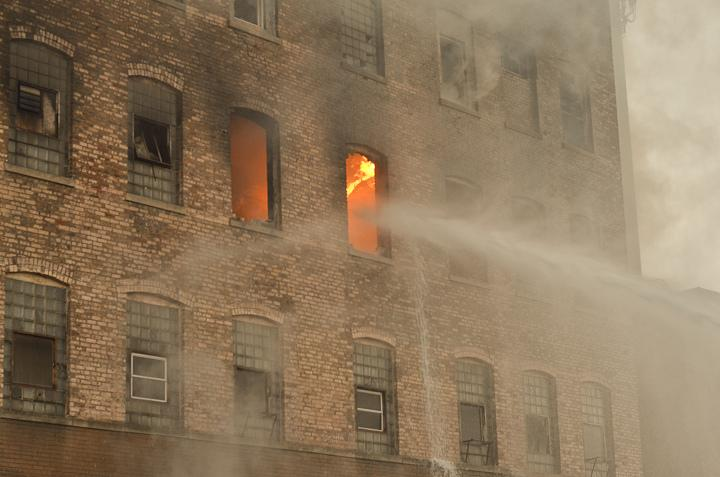fire: (345, 160, 375, 190)
